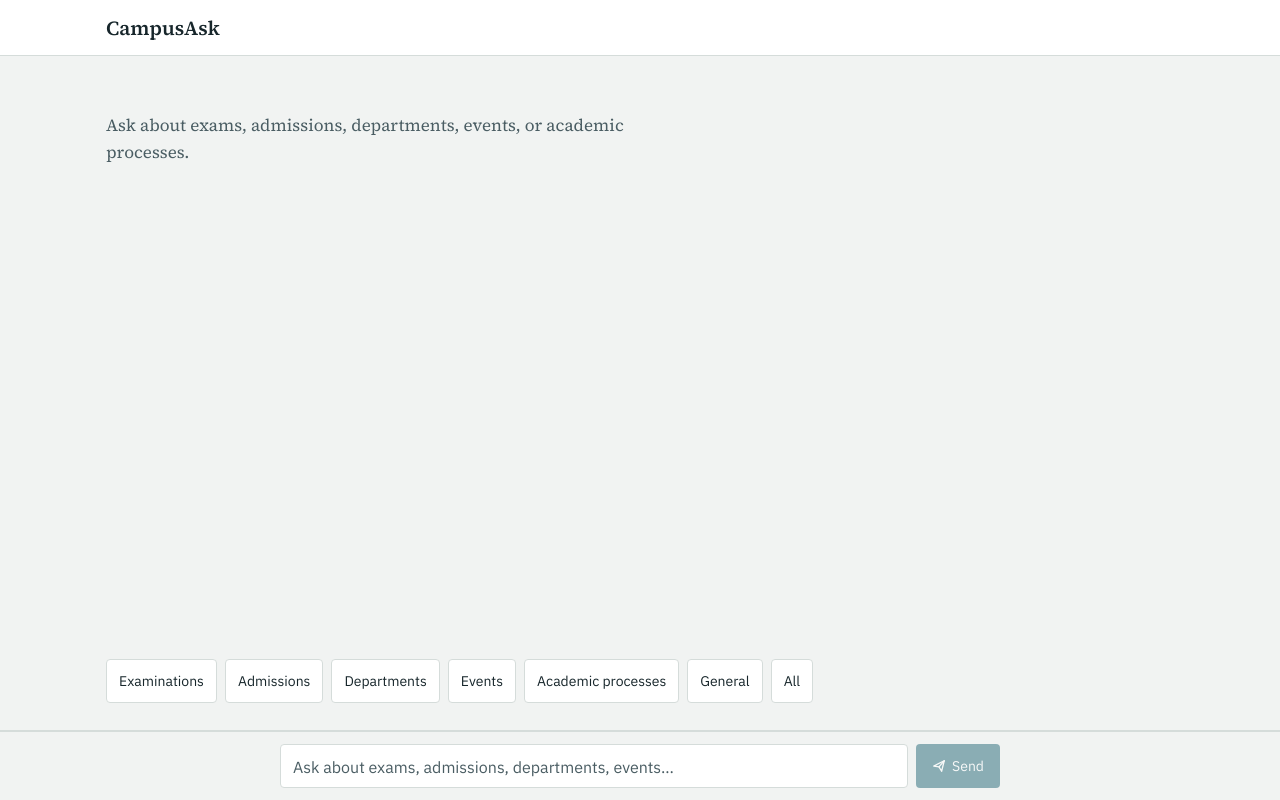
Test: Chat › records a rating once and confirms it
Expected: the radio button labelled "Admissions" is shown, [225,659,323,703]
Type "When are marks published?" into the text box at coordinates (594, 766), box [280,744,908,788]
Then press Enter
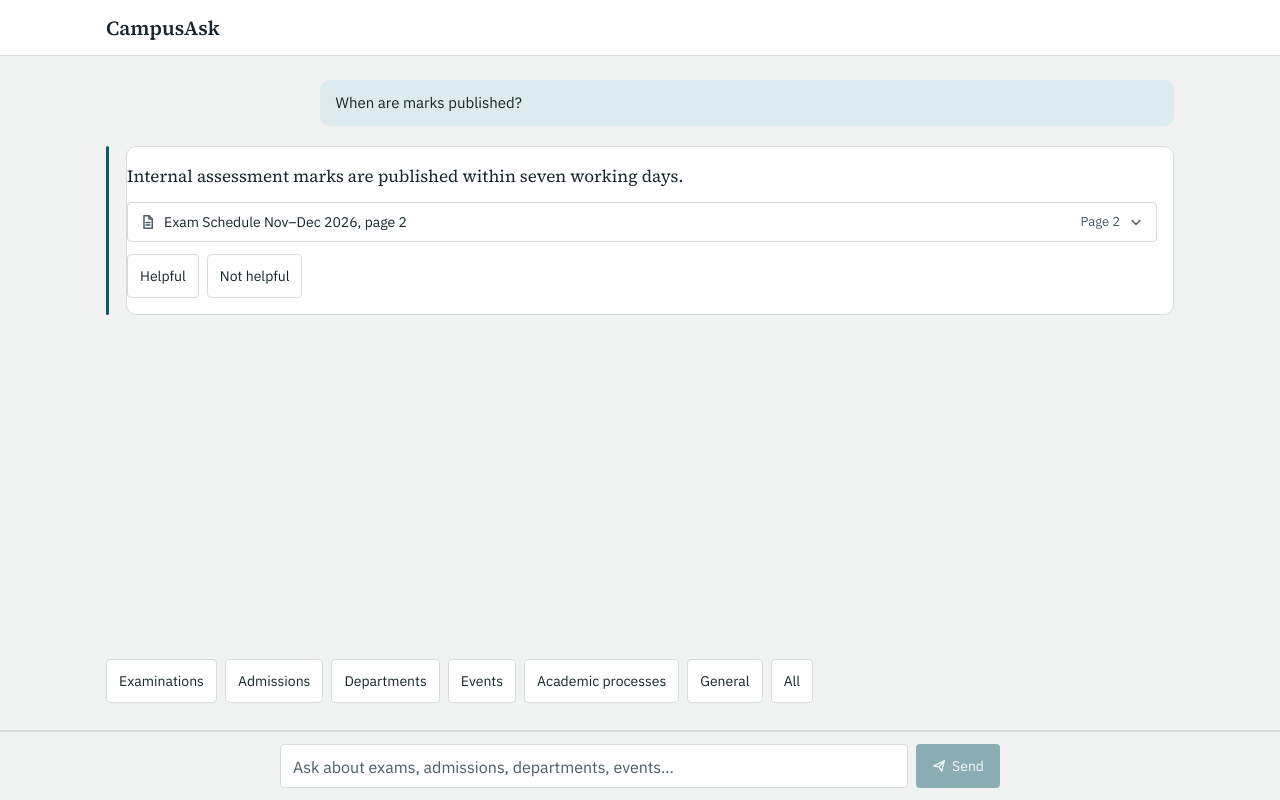
Result: the text "Internal assessment marks are published within seven working days." is shown at [127,163,712,190]
Click the button "Helpful" at coordinates (163, 276), box [127,254,199,298]
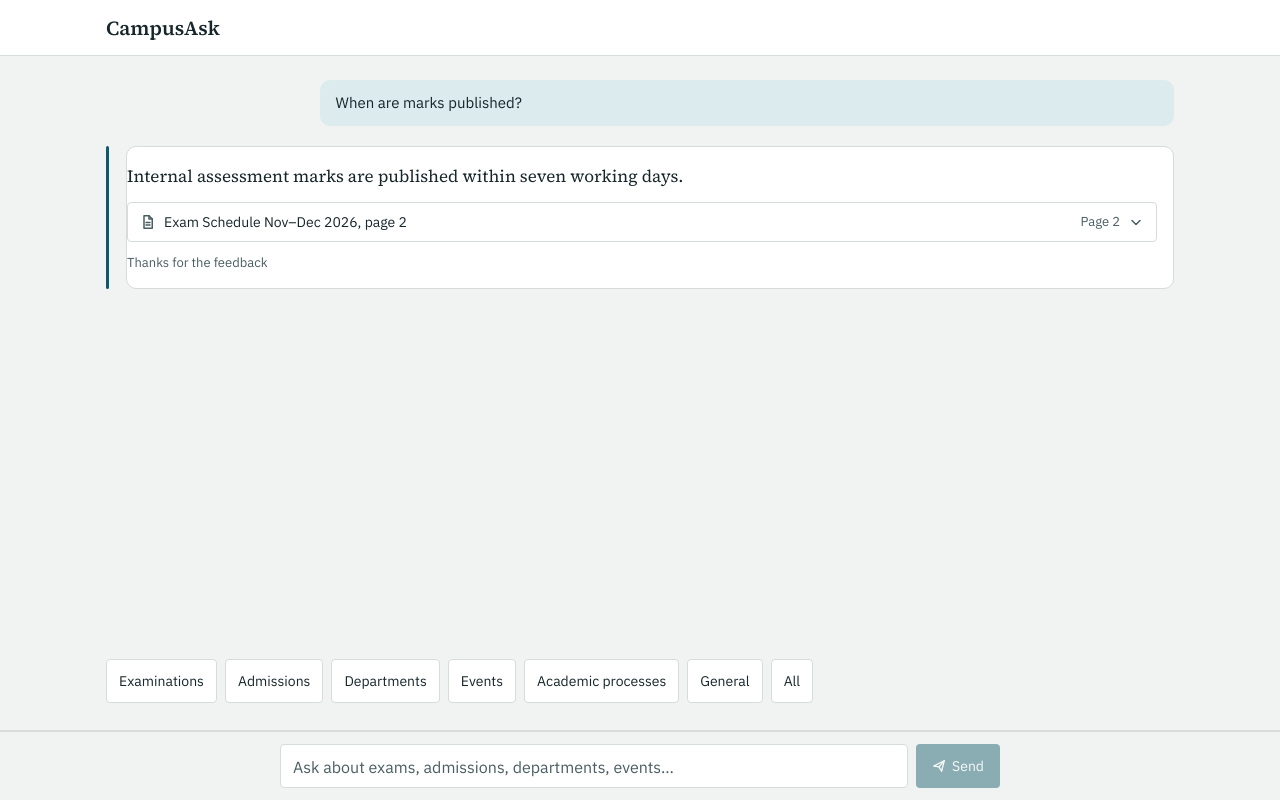
Result: the text "Thanks for the feedback" is shown at [127,254,268,271]
Result: the button "Helpful" is gone
